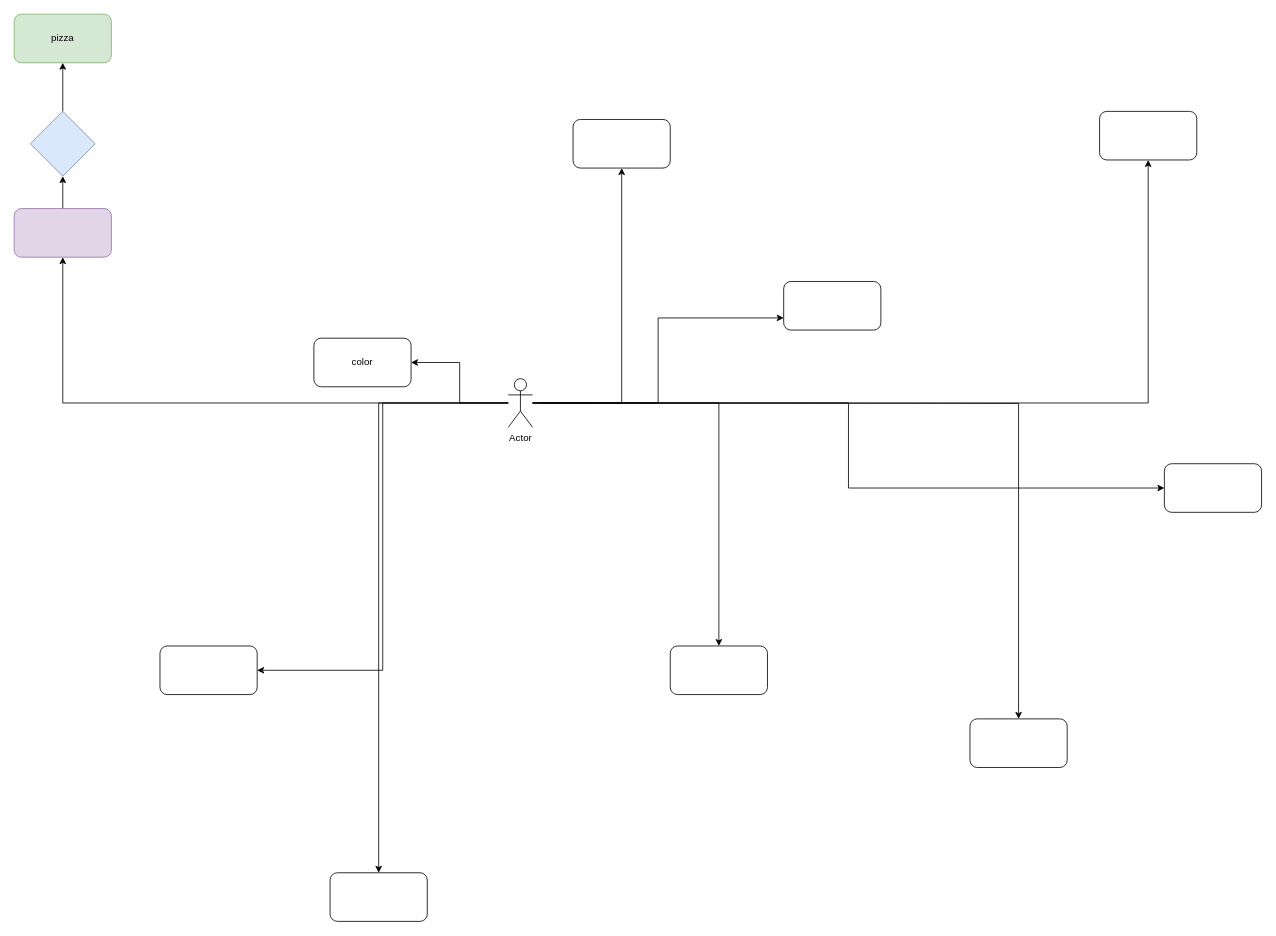
This 1276x936 diagram has some shape labels left out. Here are the shapes that lost their labels. From the top down, the box of each, then its label:
(30, 111, 95, 176): gusta
(13, 208, 111, 257): comida
